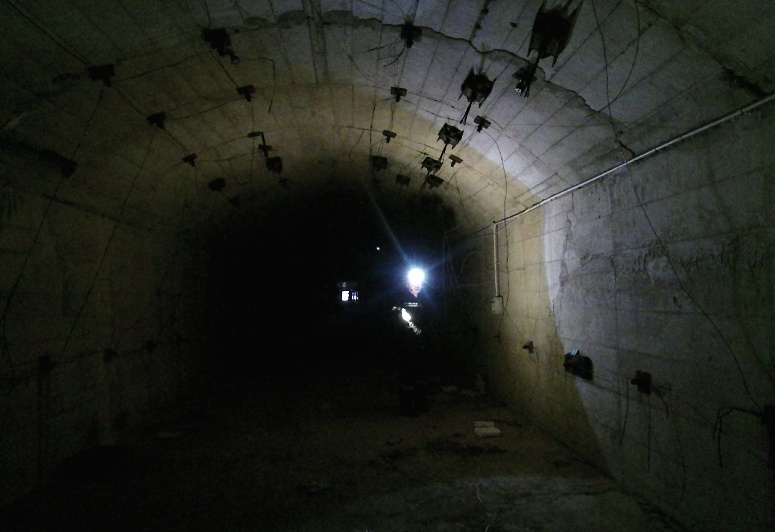person: (384, 270, 436, 420)
